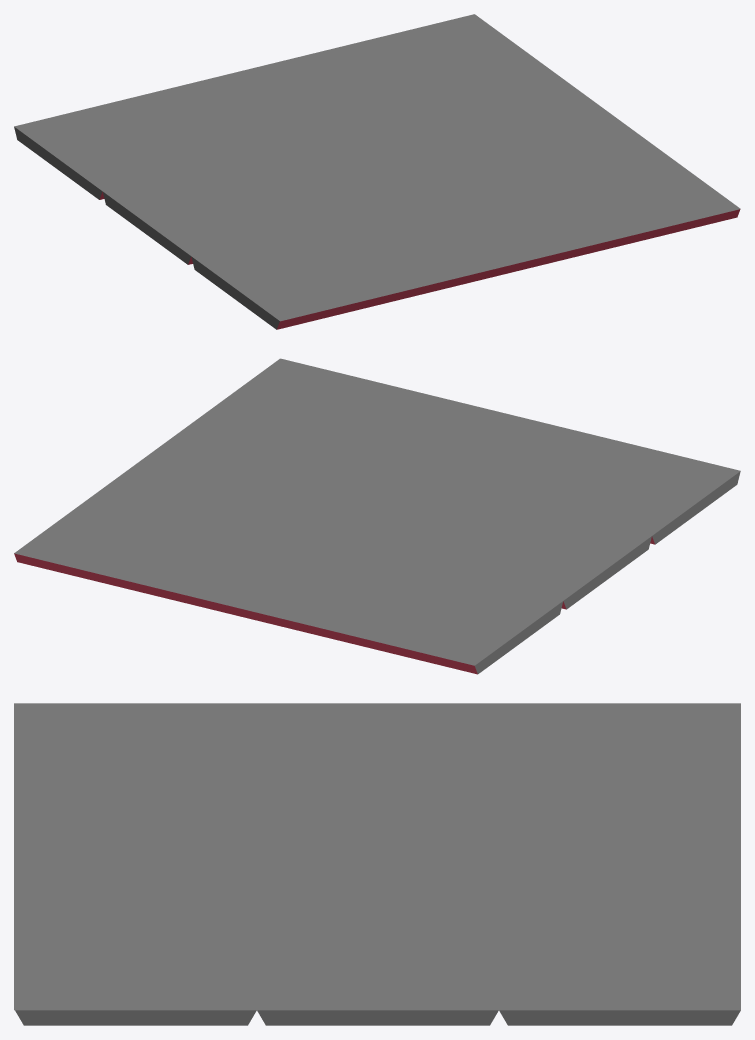
File: Sm_Mod_M_Dark.fbx
3 views of the same model, one above another, from view 1: azimuth 30°, elevation 25°; view 2: azimuth 150°, elevation 25°; view 3: azimuth 270°, elevation 25° (orthographic). The views are drawn at different scales.
Parts seen in each view (by area): view 1: Sm_Mod_M; view 2: Sm_Mod_M; view 3: Sm_Mod_M.
Part boxes in pixels (bbox=[...]): Sm_Mod_M: bbox=[14, 14, 740, 329]; Sm_Mod_M: bbox=[14, 358, 740, 674]; Sm_Mod_M: bbox=[14, 703, 740, 1025].
Bounding box in the file's own units: 400 × 9.22 × 400.
